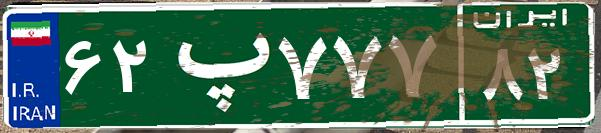2: (110, 28, 158, 105), (525, 38, 570, 115)
6: (57, 26, 110, 107)
7: (385, 28, 445, 110), (273, 28, 330, 110), (330, 28, 385, 110)
8: (475, 38, 525, 113)
پ: (158, 15, 273, 115)
